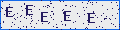E: (64, 11, 72, 21), (26, 5, 34, 15), (88, 13, 95, 23), (41, 12, 48, 22), (6, 7, 13, 17)
